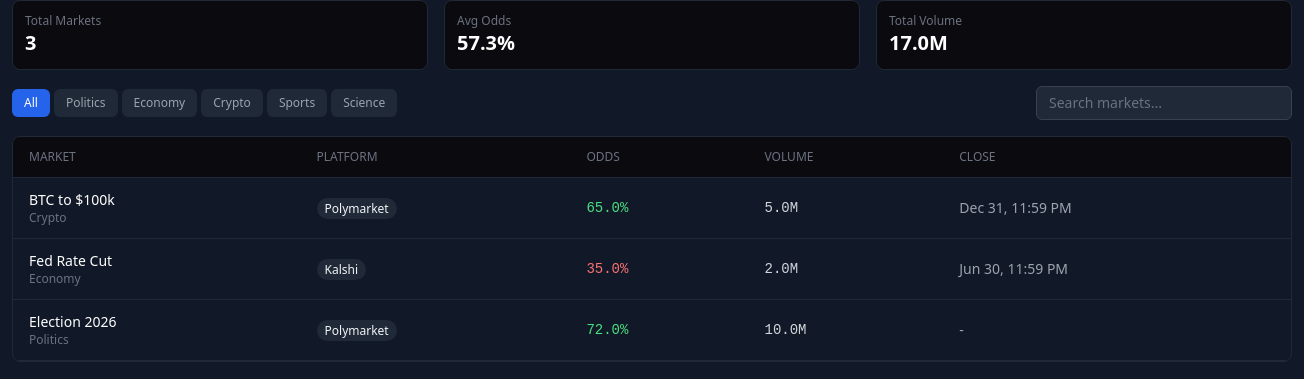
MarketTable › shows empty state when no markets match filters
expect the text "BTC to $100k" is shown: met, box [29,190,115,209]
Type "zzzzz" into the field with placeholder "Search markets..." at (1164, 103), box [1036,86,1292,120]
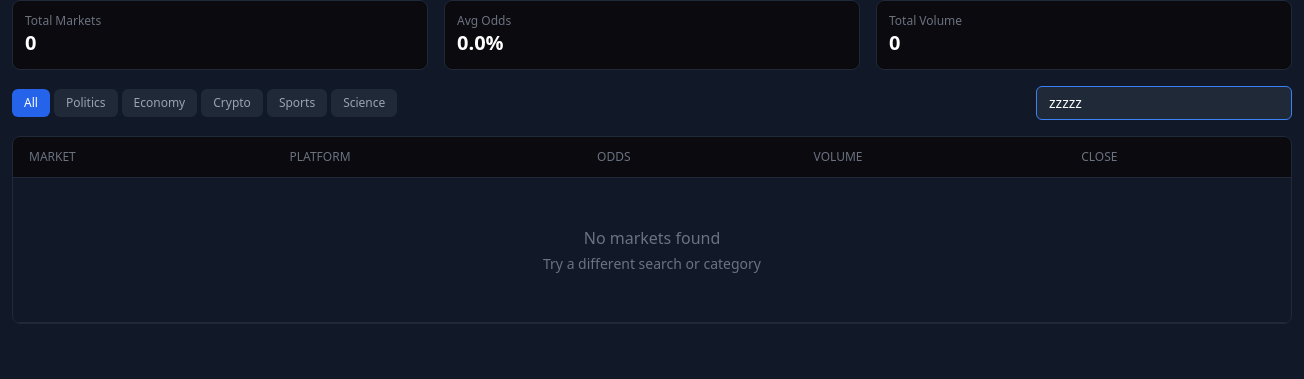
expect the text "No markets found" is shown: met, box [584,227,720,249]
expect the text "Try a different search or category" is shown: met, box [543,254,761,273]
